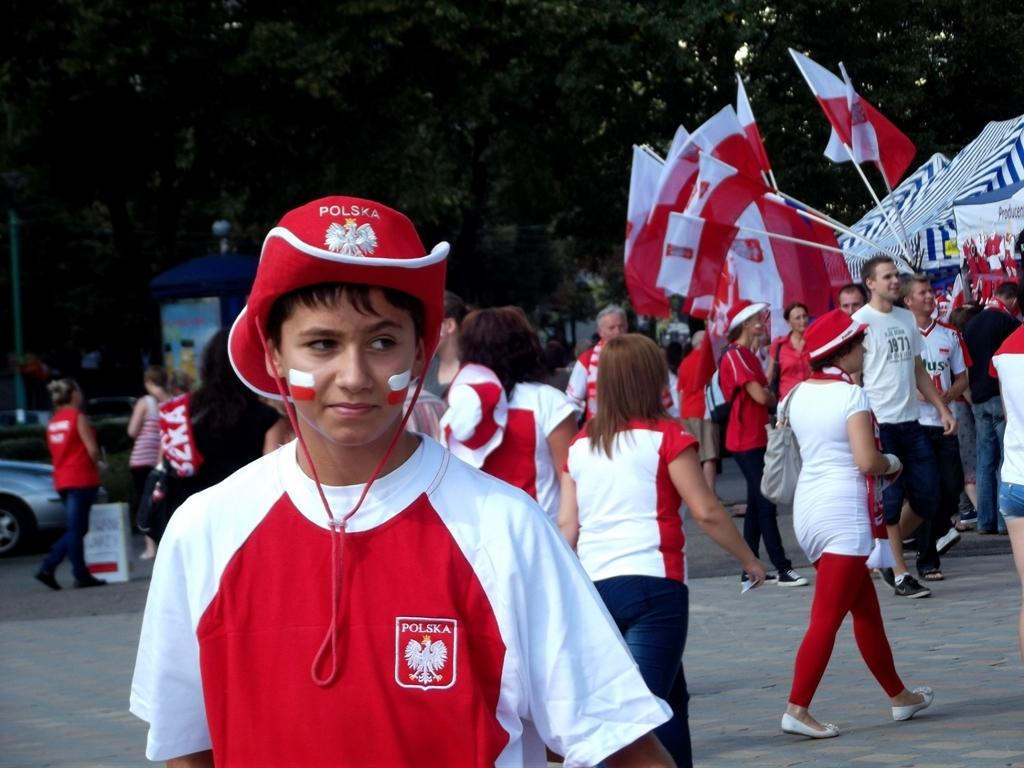Hat: (228, 191, 440, 685), (436, 362, 508, 466), (799, 310, 869, 362), (724, 296, 770, 336)
